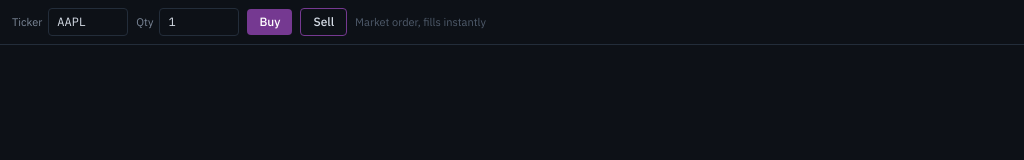
Test: TradeBar › validates quantity before calling the server
The width and height of the screenshot is (1024, 160).
Clear the number field with test id "trade-quantity" at (199, 22), box [159,8,239,36]
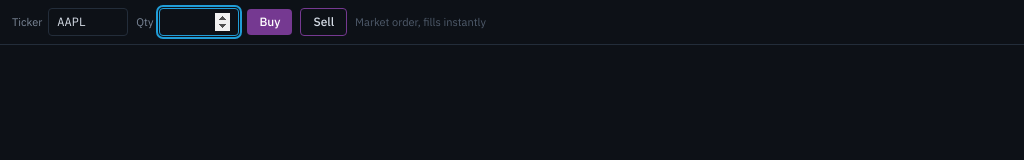
Click the button with test id "trade-sell" at (324, 22), box [300,8,347,36]
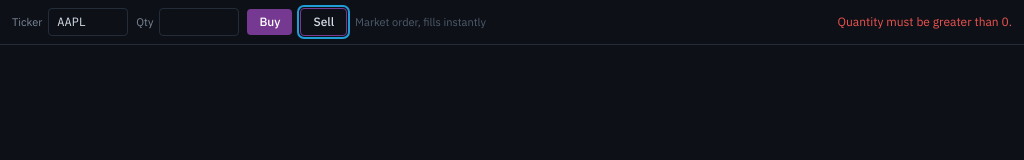
Expected: the message with test id "trade-error" shows "Quantity must be greater than 0", [838,14,1012,29]
